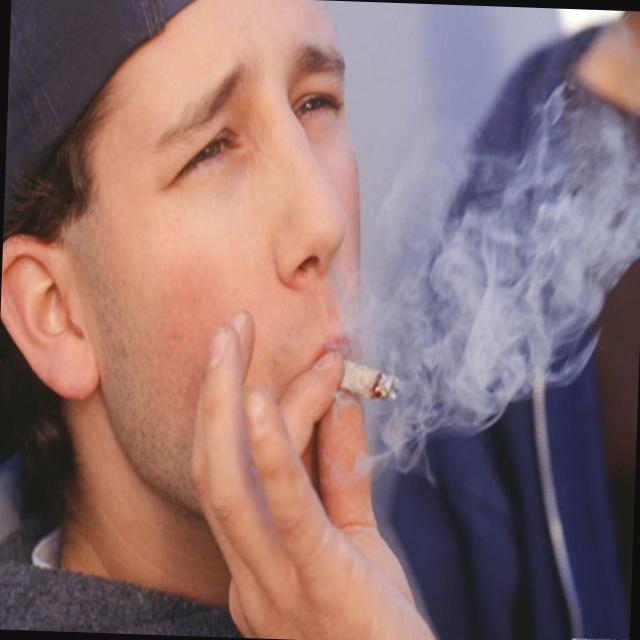cigarette: (330, 356, 404, 409)
